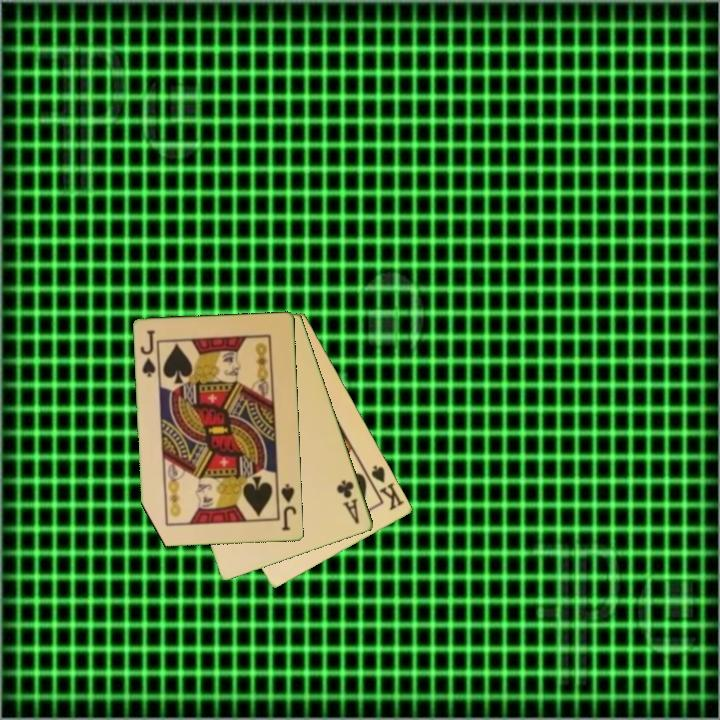Ac: (333, 476, 362, 527)
Js: (138, 327, 161, 380), (278, 480, 300, 534)
Ks: (368, 461, 407, 513)
